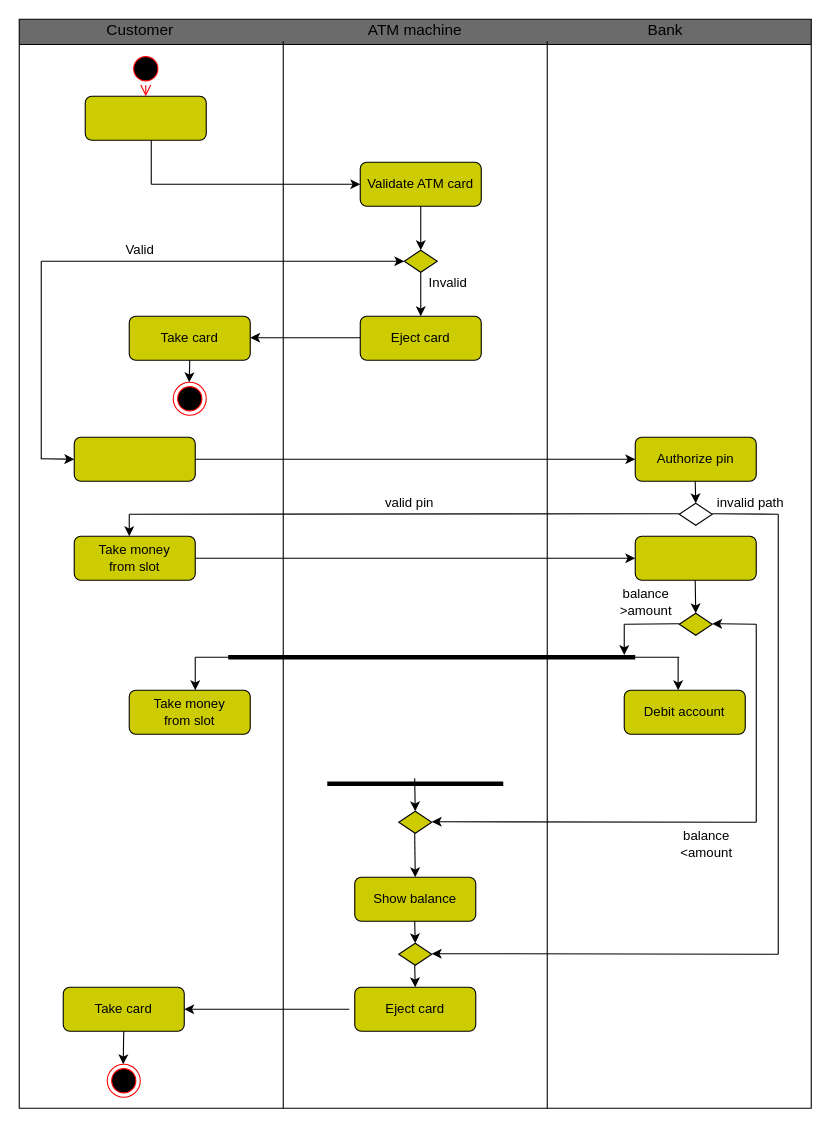
Image size: 831x1129. Some labels were removed from this diagram. Here are the shapes that lost their labels. From the top down, the centre of each, then its label:
At [145,117]: "Insert ATM card".
At [134,458]: "Enter pin".
At [695,557]: "Check balance".
